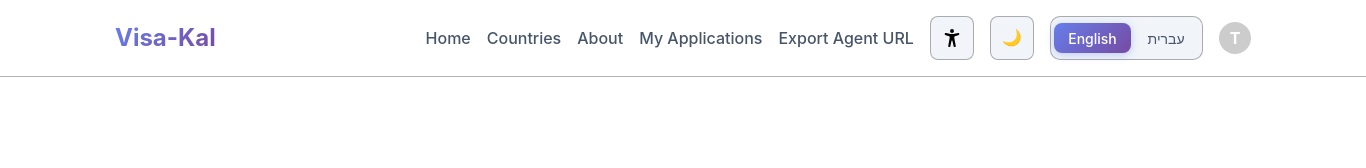
Test: Navbar › shows agent URL copied modal after export and copies to clipboard
Click the button "Export Agent URL": [846, 38] box top-left (778, 28), bottom-right (914, 48)
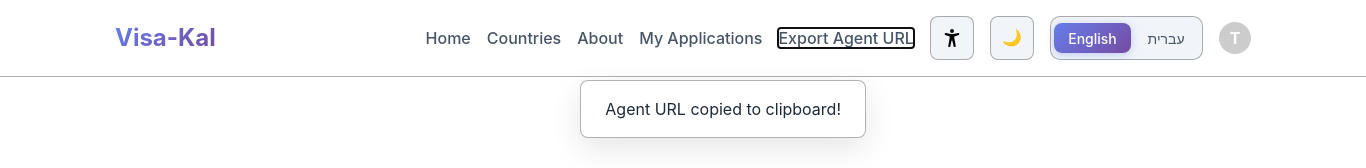
Result: the text "Agent URL copied to clipboard!" is shown at top-left (580, 80), bottom-right (866, 138)
